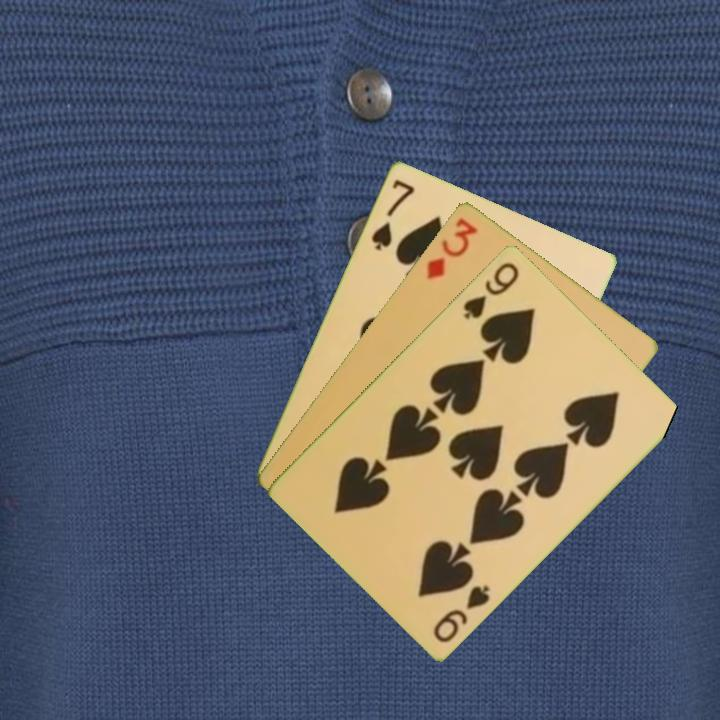3d: (423, 213, 481, 282)
7s: (367, 175, 418, 253)
9s: (430, 580, 493, 645), (460, 258, 522, 322)
